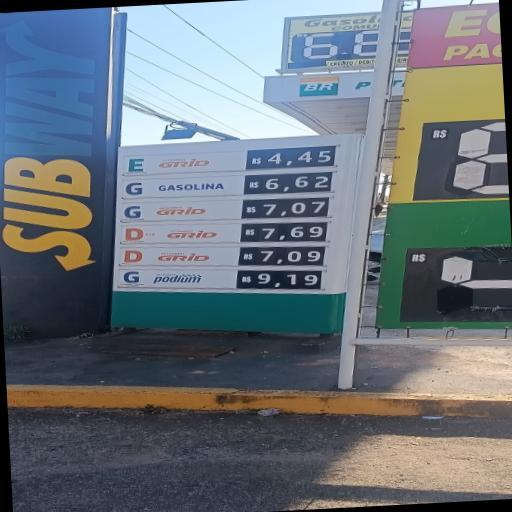ETANOL: (125, 152, 223, 175)
GASOLINA AD: (118, 202, 216, 221)
GASOLINA C: (122, 175, 232, 198)
S10: (117, 224, 220, 244)
S500: (122, 247, 222, 264)
placa: (114, 142, 348, 270)
preco: (261, 172, 332, 194), (261, 195, 331, 217), (259, 222, 333, 242), (254, 247, 328, 267), (265, 147, 336, 166)
